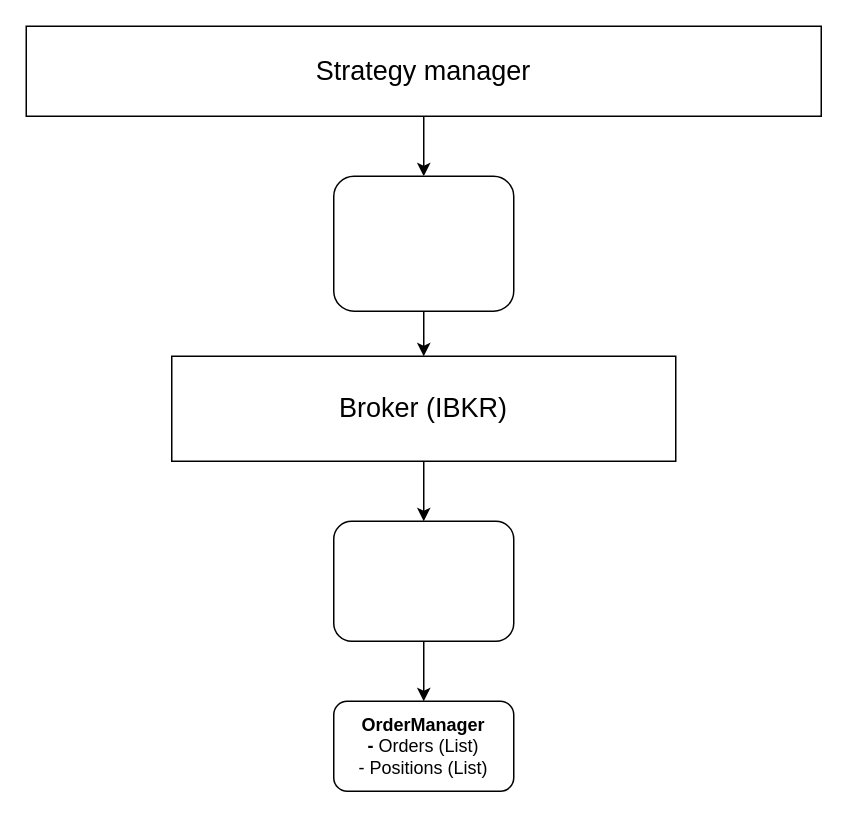
Some shapes in this 848 by 818 pixel diagram are drawn without their labels. The shapes that lost their labels are listed below. From the top down, each one's box as (x1, y1, x2, y2) in pixels, then its label:
(332, 175, 514, 311): Order - id - type - symbol - quantity - price
(332, 520, 514, 641): Position - symbol - quantity -avgPrice
